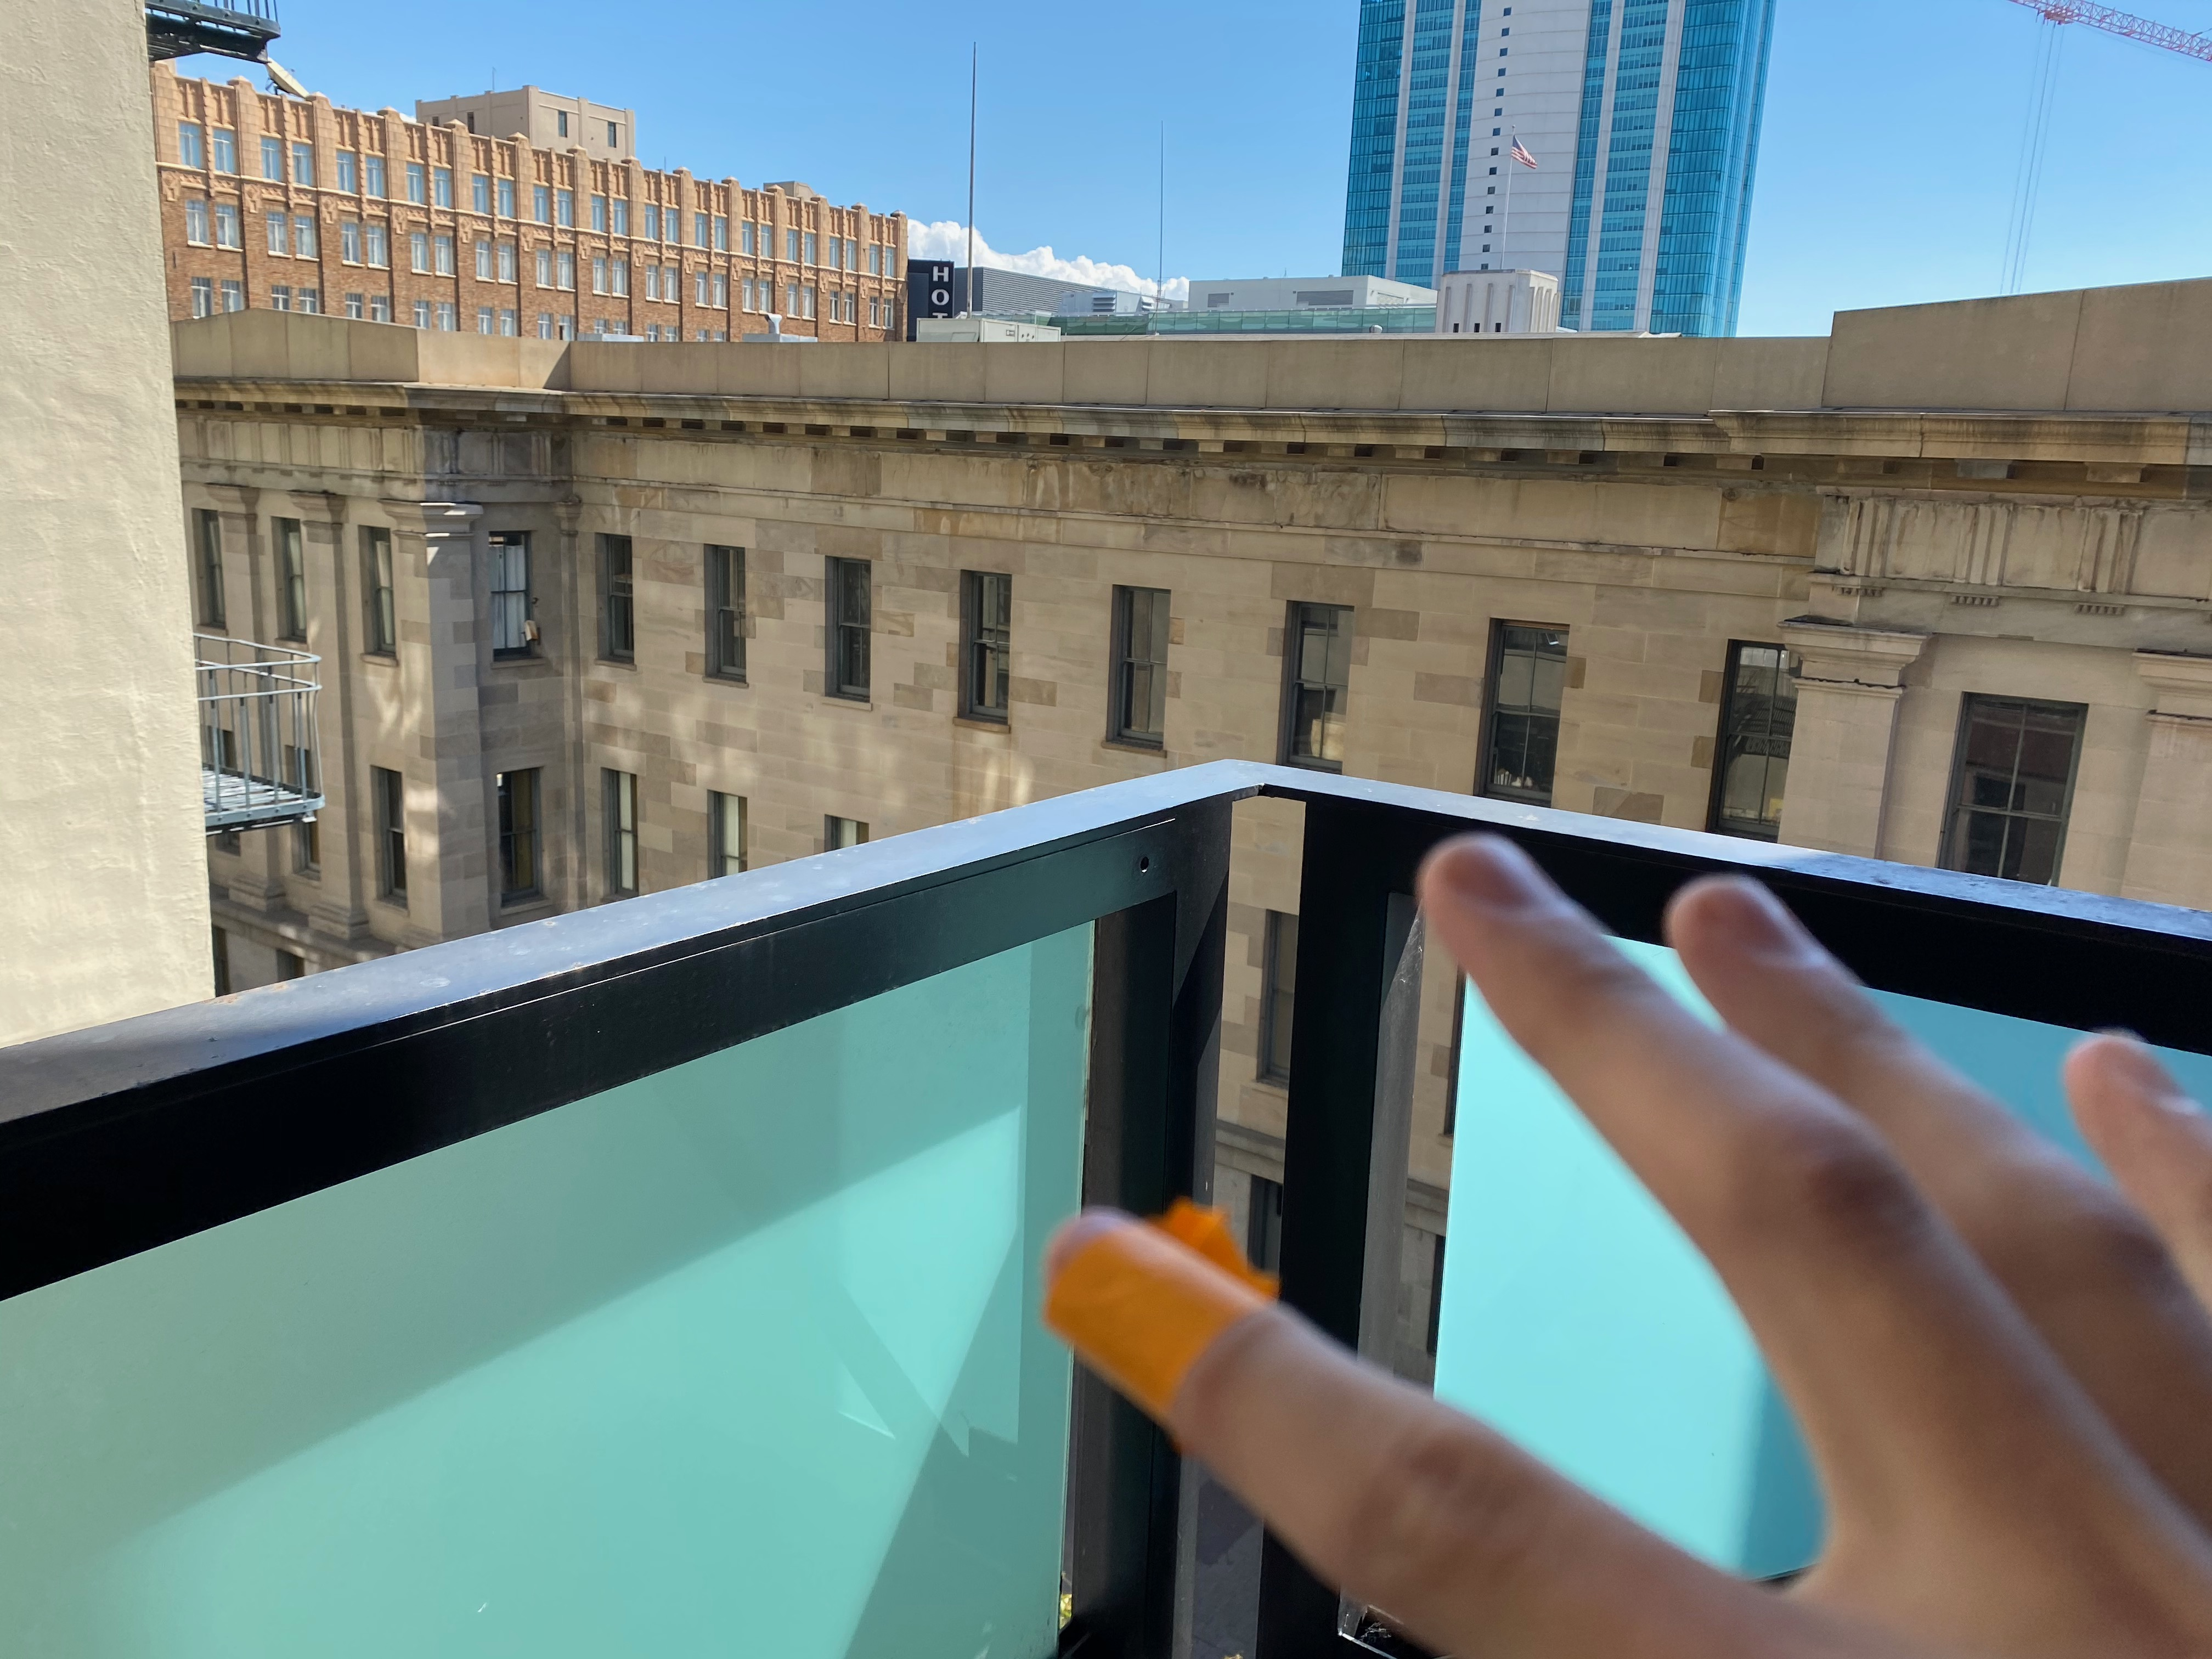fingertip: (965, 1176, 1359, 1459)
